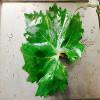grape leaf: (17, 2, 86, 98)
